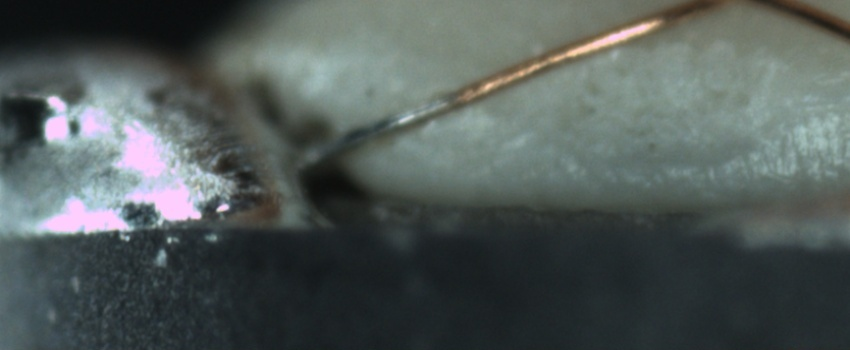TS: (297, 95, 457, 167)
TTCW: (301, 81, 487, 171)
